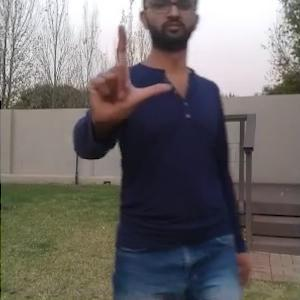land_hand: (83, 24, 170, 129)
